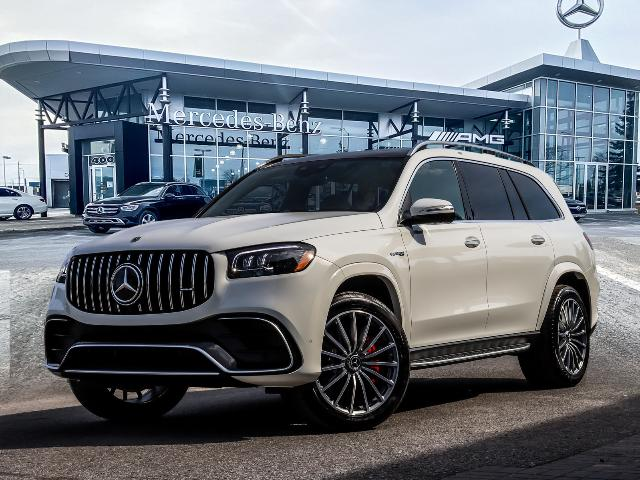benz: (43, 140, 602, 430)
